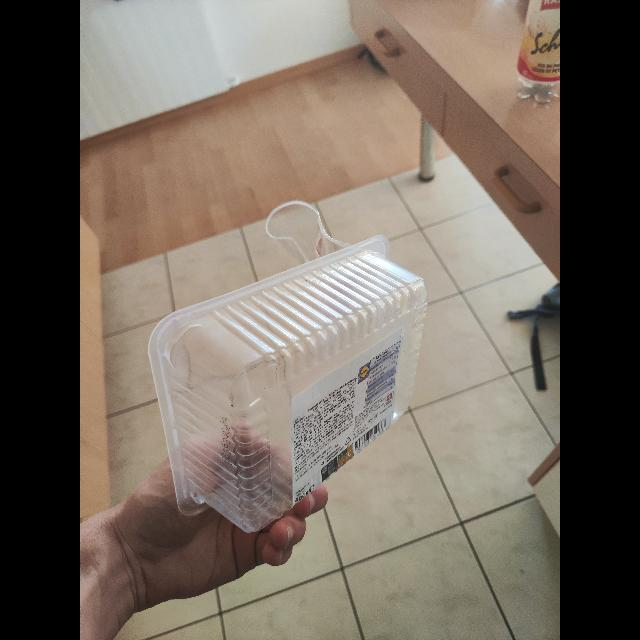Plastic: (143, 199, 455, 539)
